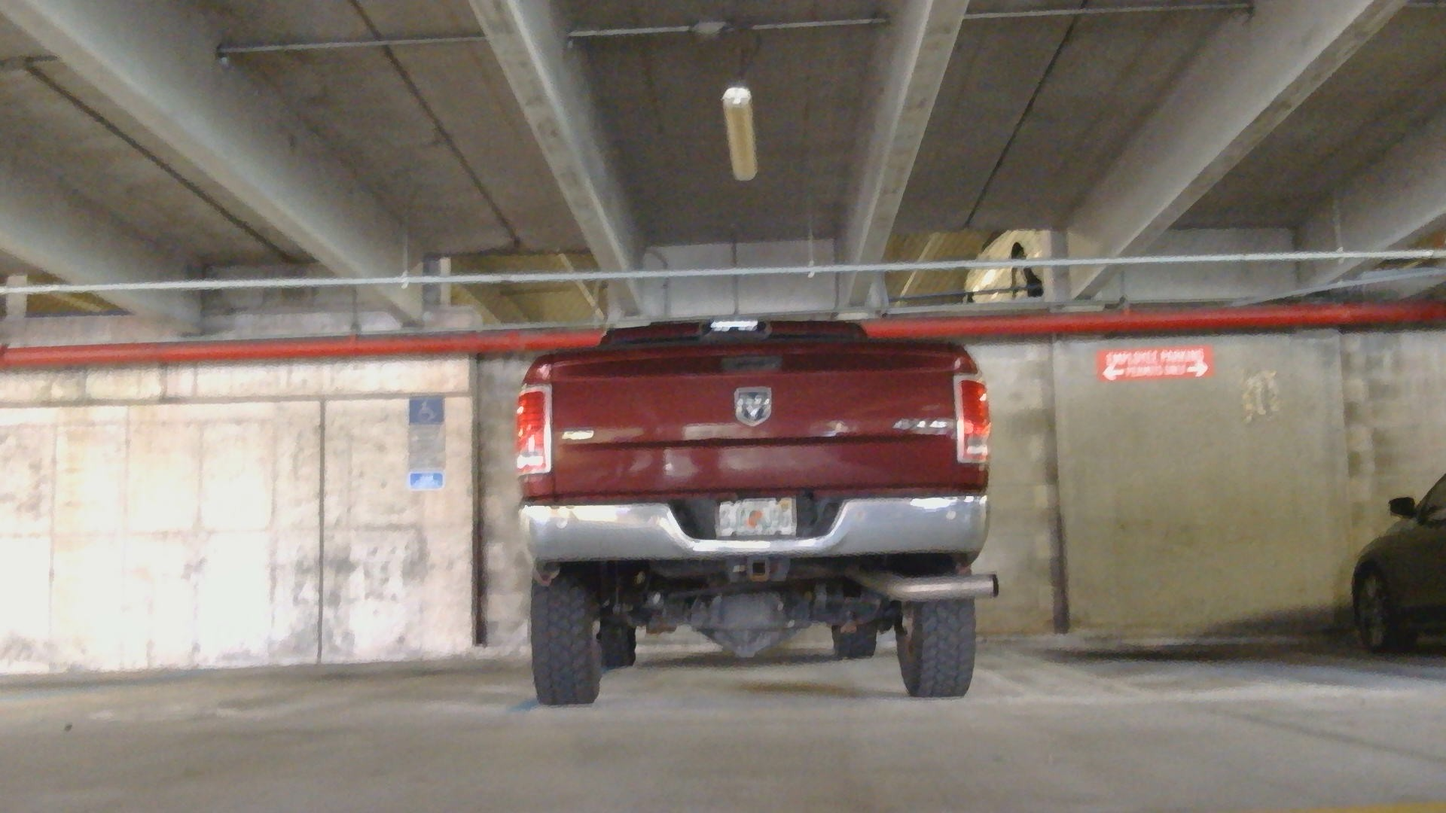empty_spot: (0, 562, 517, 717), (973, 566, 1445, 702)
occupied_spot: (504, 303, 1011, 727), (1349, 465, 1445, 666)
